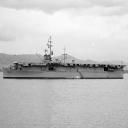Portanaves: (2, 34, 127, 80)
